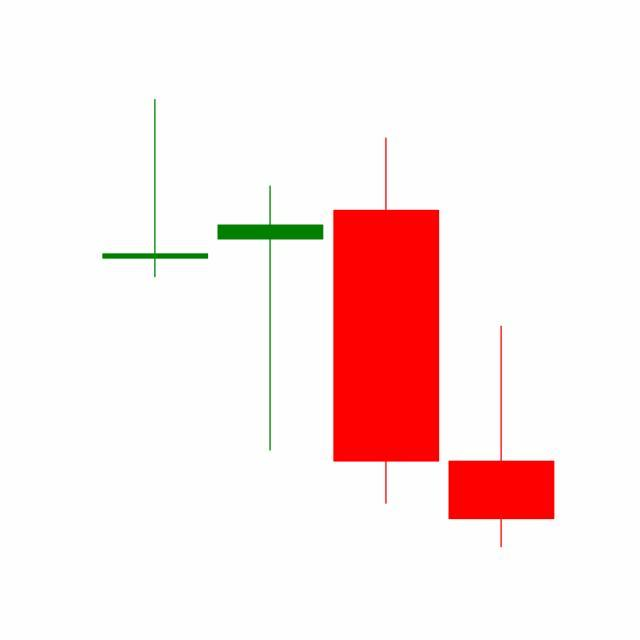Three Outside Up-Down: (211, 133, 555, 548)
